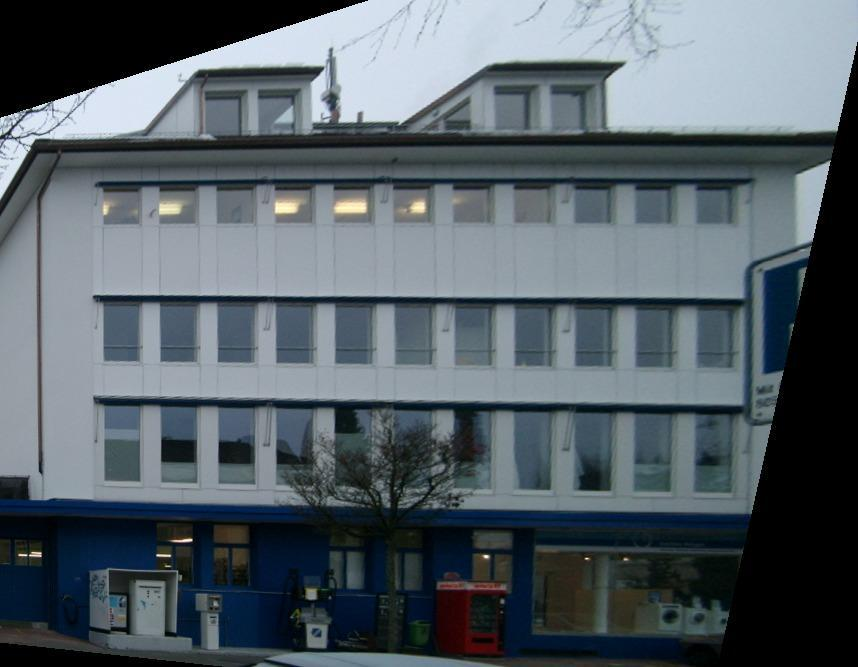window: (695, 411, 737, 501), (635, 408, 677, 498), (572, 406, 614, 496), (514, 406, 556, 496), (454, 406, 496, 496), (393, 406, 435, 496), (277, 402, 319, 492), (219, 402, 261, 492), (105, 399, 147, 489), (335, 402, 376, 492), (161, 399, 202, 489), (694, 304, 738, 371), (395, 302, 439, 368), (453, 303, 497, 369), (514, 302, 558, 368), (574, 304, 618, 370), (635, 303, 679, 369), (157, 523, 199, 590), (388, 527, 430, 594), (217, 524, 258, 591), (330, 526, 371, 593), (473, 529, 514, 596), (336, 304, 378, 364), (218, 303, 258, 364), (103, 302, 142, 363), (161, 303, 200, 364), (277, 304, 316, 364), (551, 84, 594, 131), (259, 90, 302, 136), (496, 86, 539, 132), (205, 91, 247, 138), (698, 185, 742, 227), (634, 185, 678, 227), (574, 184, 618, 226), (513, 184, 557, 226), (450, 184, 494, 226), (392, 185, 436, 227), (334, 184, 377, 226), (274, 183, 317, 225), (215, 183, 258, 225), (160, 185, 200, 227), (102, 184, 142, 226)
